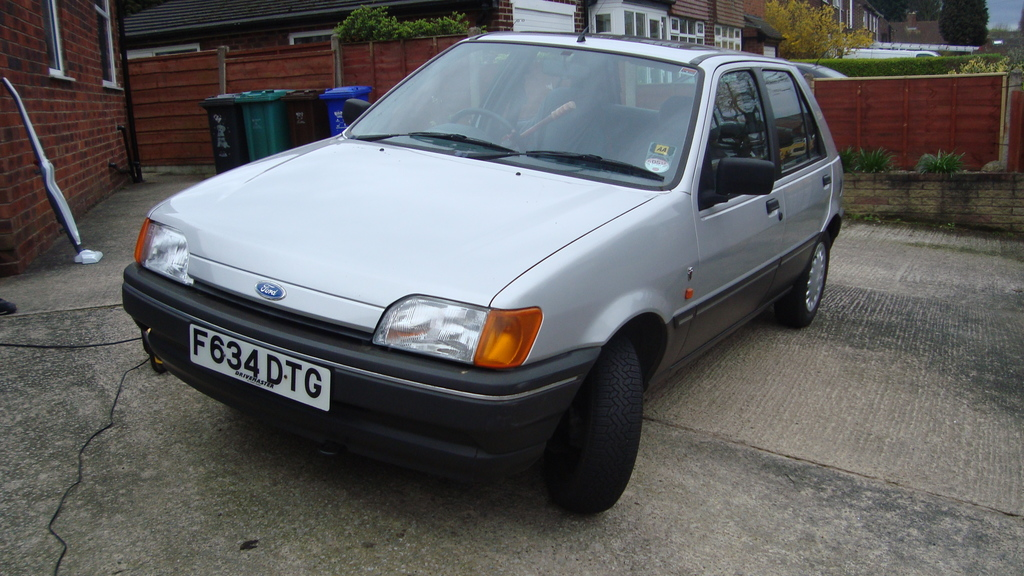Car: (120, 0, 844, 516), (670, 48, 847, 81)
